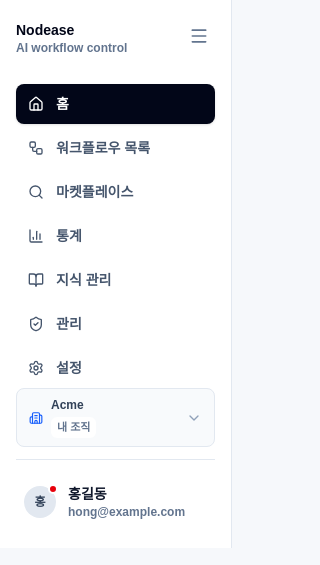
Test: Sidebar organization switcher › 다른 organization 선택 시 active organization을 저장하고 dashboard로 이동한다
This screenshot has width=320, height=565.
Step 1. Click the button with aria-label "조직 전환" → (116, 418), box [16,388,215,447]
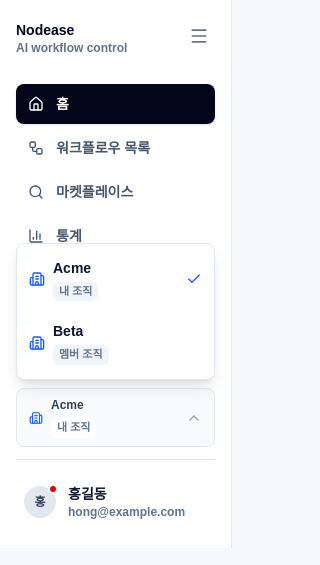
Step 2. Click the menu item with aria-label "Beta 조직 선택" → (116, 343), box [17,311,214,375]
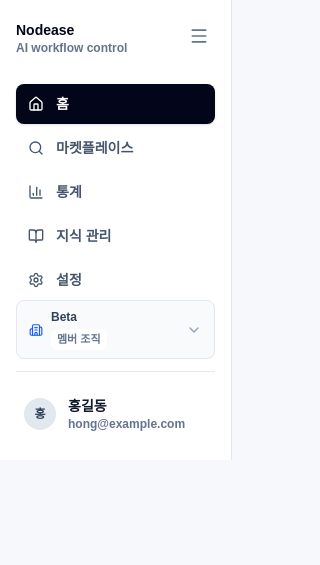
Expected: the text "Beta" is shown, [51,310,77,324]
Expected: the text "멤버 조직" is shown, [51,329,106,350]
